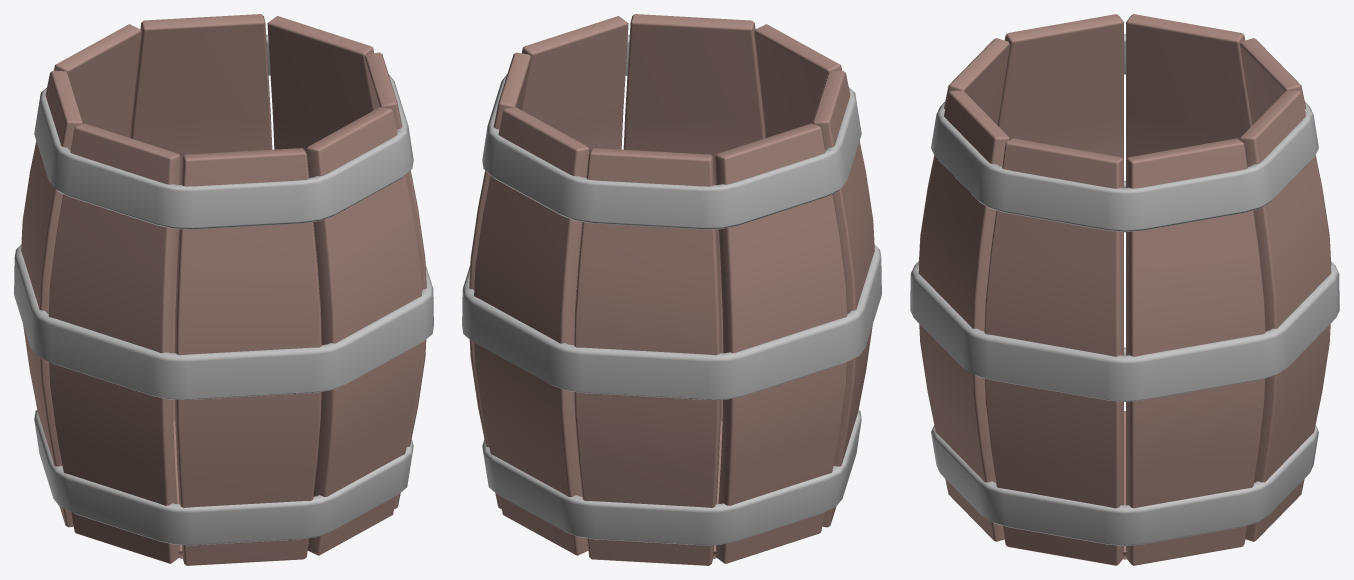
File: Farm_2_Barrel_2.glb
3 renders of one model, left to right at view 1: azimuth 30°, elevation 25°; view 2: azimuth 150°, elevation 25°; view 3: azimuth 270°, elevation 25°, orthographic.
Visible parts, largest first — view 1: Farm_2_Barrel_2; view 2: Farm_2_Barrel_2; view 3: Farm_2_Barrel_2.
Boxes of the visible parts, x1,y1,x2,y2 form: Farm_2_Barrel_2: [14, 14, 433, 565]; Farm_2_Barrel_2: [462, 14, 881, 565]; Farm_2_Barrel_2: [910, 14, 1339, 565].
Size of the model in its own units: 0.7761 by 0.8074 by 0.7761.
Materials: 1 (1 with a texture image).
